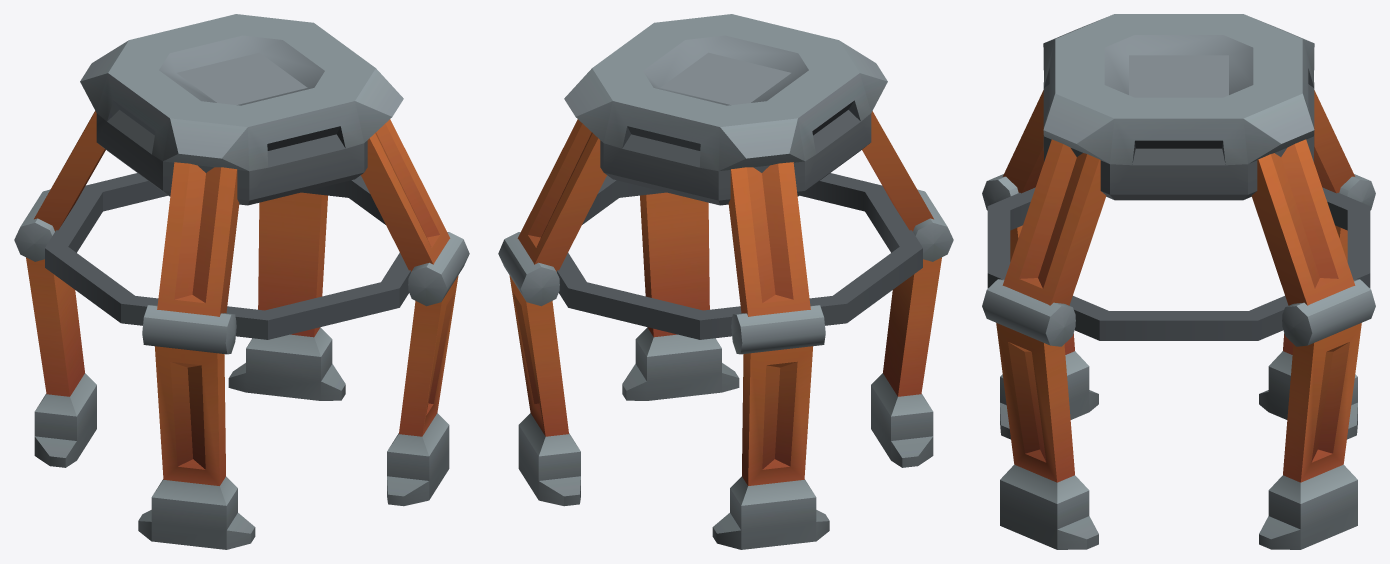
The model's file is structure-tall.glb.
The picture shows the model from 3 angles, left to right: view 1: azimuth 30°, elevation 25°; view 2: azimuth 150°, elevation 25°; view 3: azimuth 270°, elevation 25°; orthographic projection. The views are drawn at different scales.
Visible parts, largest first — view 1: structure_tall; view 2: structure_tall; view 3: structure_tall.
Boxes of the visible parts, x1,y1,x2,y2 form: structure_tall: (14,14,469,549); structure_tall: (498,14,953,549); structure_tall: (982,14,1375,549).
Size of the model in its own units: 1.75 by 2 by 1.75.
1 material, 1 textured.
